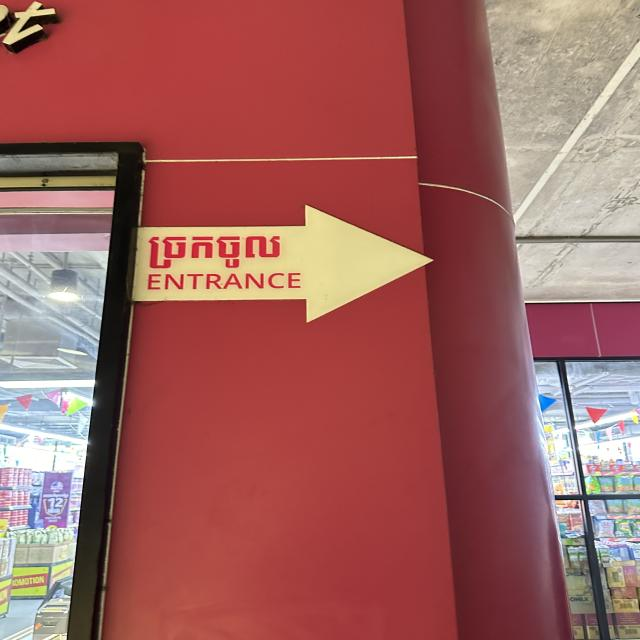Yolov11kh: (139, 227, 292, 270)
